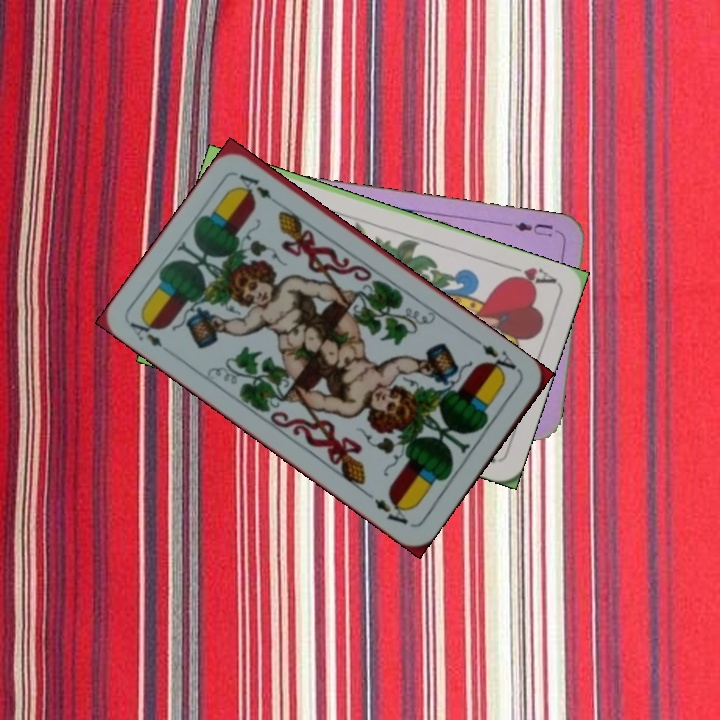EA: (472, 335, 523, 381), (125, 313, 165, 350)
EU: (511, 218, 555, 240)
HA: (500, 260, 559, 291)
